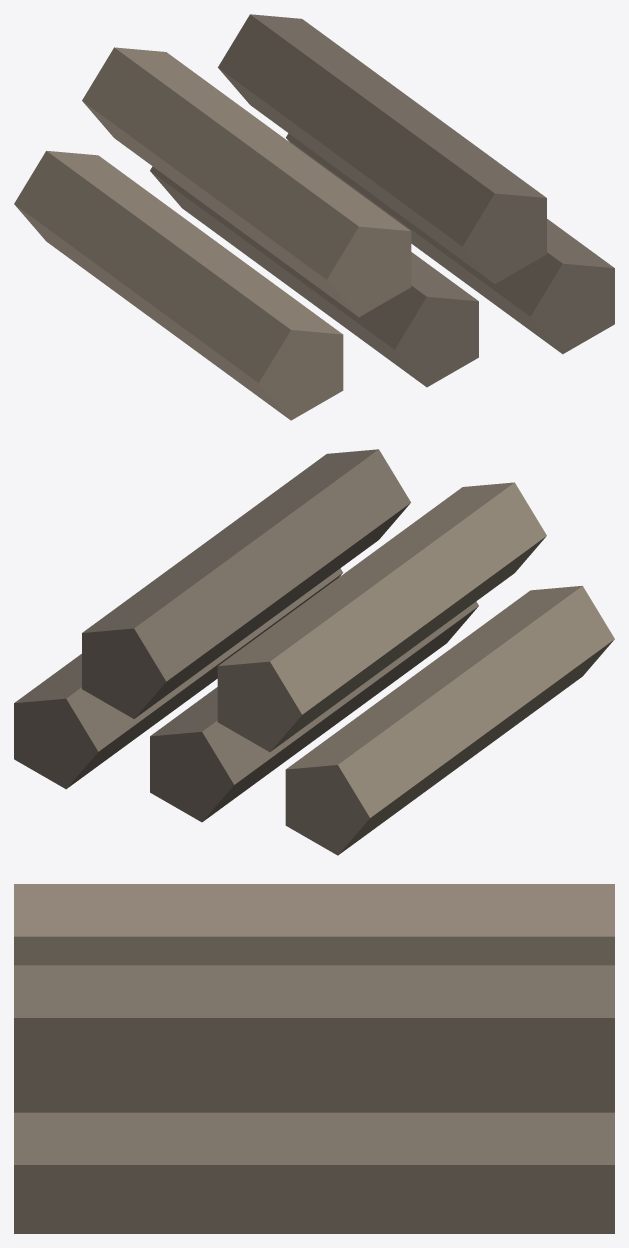
The model's file is firewood.glb.
3 views of the same model, one above another, from view 1: azimuth 30°, elevation 25°; view 2: azimuth 150°, elevation 25°; view 3: azimuth 270°, elevation 25° (orthographic). The views are drawn at different scales.
Visible parts, largest first — view 1: firewood; view 2: firewood; view 3: firewood.
Boxes of the visible parts, left/top/right/bottom form: firewood: left=14, top=14, right=614, bottom=420; firewood: left=14, top=449, right=614, bottom=855; firewood: left=14, top=884, right=614, bottom=1233.
Size of the model in its own units: 0.42 by 0.2 by 0.5.
